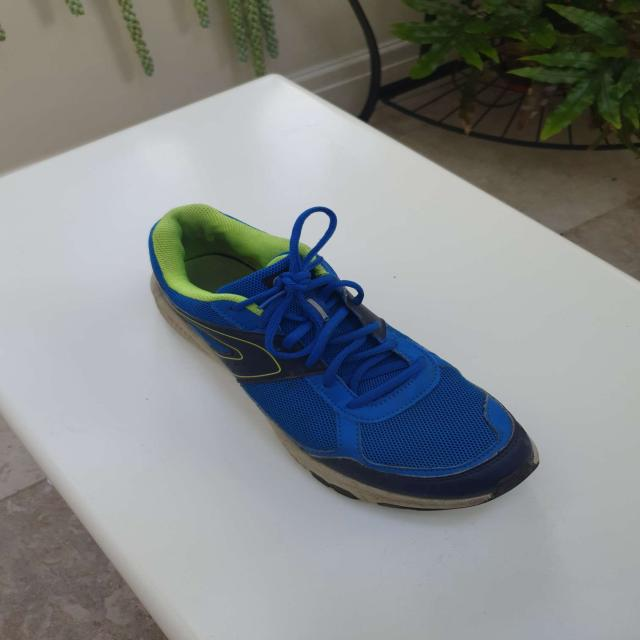shoe: (148, 201, 540, 511)
